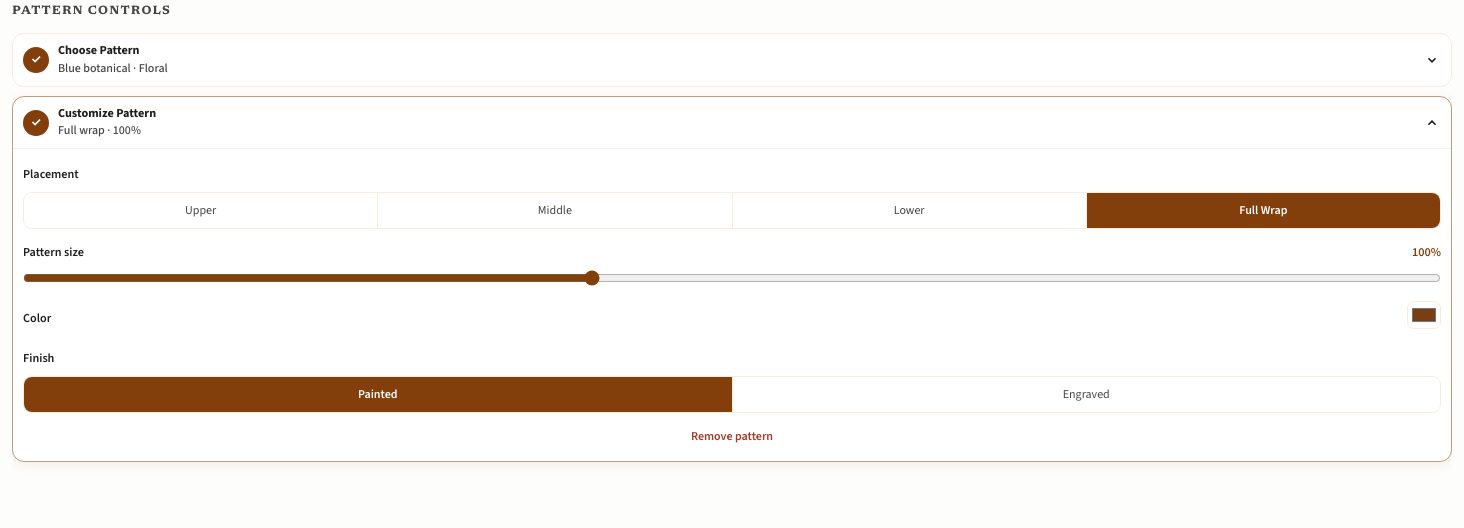
Test: DecorTab guided workflow › reopens completed sections and returns to selection after removal
Click the button "✓ Choose Pattern Blue botanical · Floral".
click(99, 51)  # box x1=13 y1=34 x2=1451 y2=86
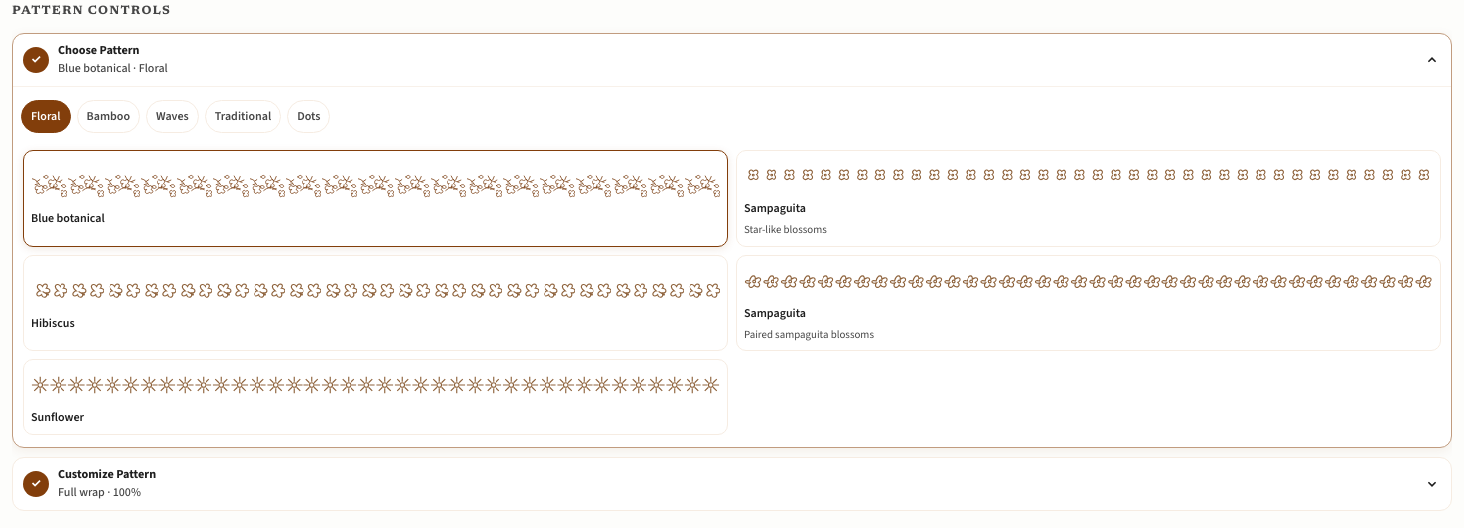
Result: the button "✓ Choose Pattern Blue botanical · Floral" is expanded at x1=13 y1=34 x2=1451 y2=86
Click the button "✓ Customize Pattern Full wrap · 100%".
click(107, 475)  # box x1=13 y1=458 x2=1451 y2=510
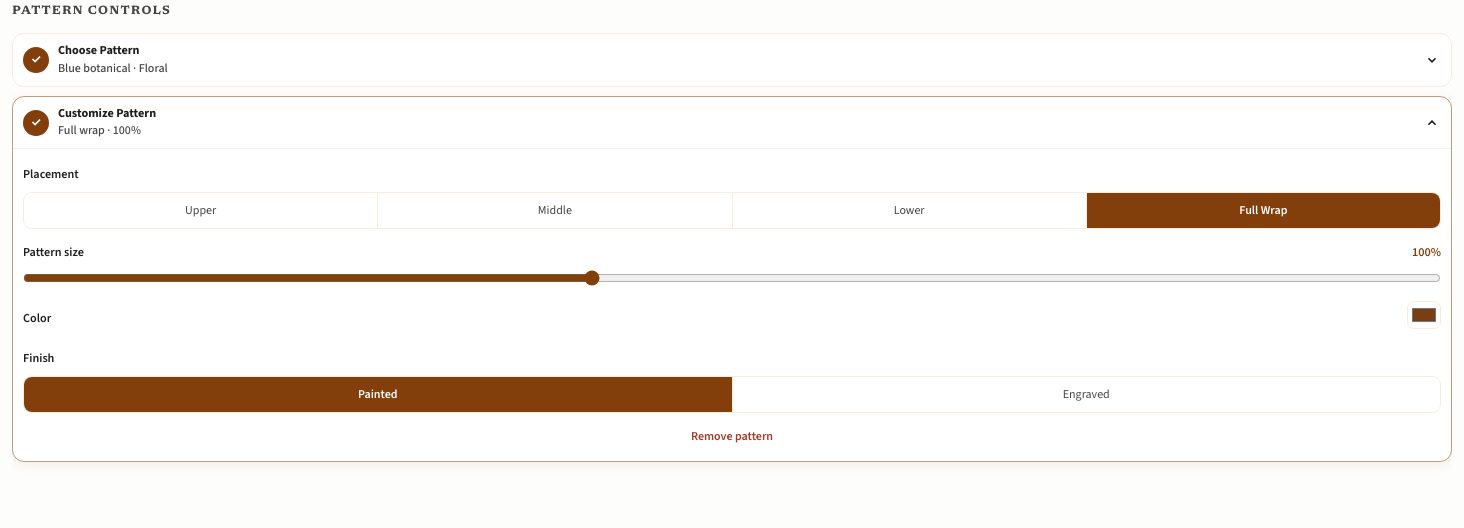
Click the button "Remove pattern".
click(732, 431)  # box x1=23 y1=413 x2=1441 y2=448
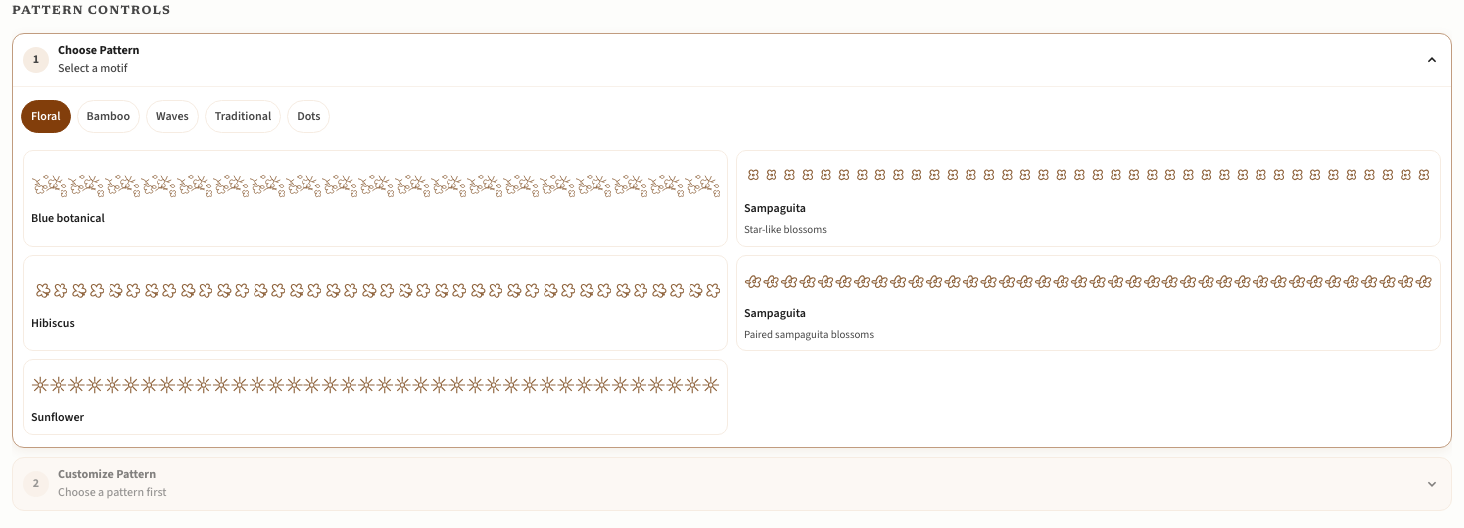
Result: the button "1 Choose Pattern Select a motif" is expanded at x1=13 y1=34 x2=1451 y2=86
Result: the button "2 Customize Pattern Choose a pattern first" is disabled at x1=13 y1=458 x2=1451 y2=510
